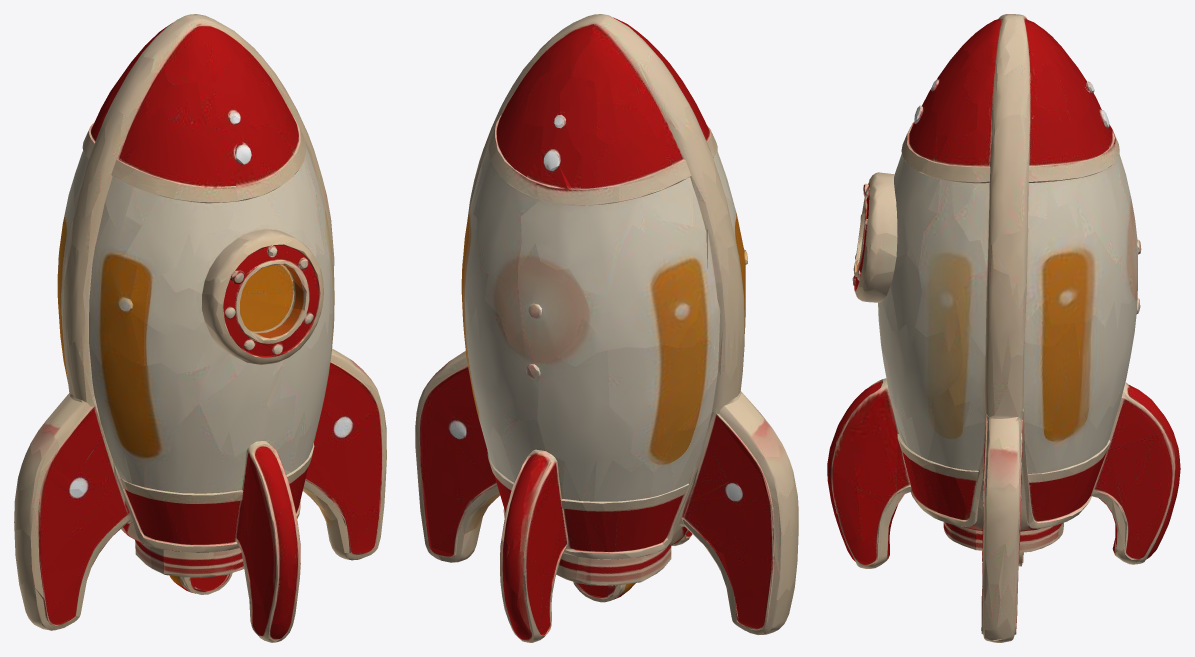
File: rocket.glb
The picture shows the model from 3 angles, left to right: view 1: azimuth 30°, elevation 25°; view 2: azimuth 150°, elevation 25°; view 3: azimuth 270°, elevation 25°; orthographic projection. The views are drawn at different scales.
Parts seen in each view (by area): view 1: charm-rocket; view 2: charm-rocket; view 3: charm-rocket.
Part boxes in pixels (left/top/right/bottom): charm-rocket: left=14, top=14, right=386, bottom=642; charm-rocket: left=415, top=14, right=798, bottom=642; charm-rocket: left=827, top=14, right=1180, bottom=642.
Bounding box in the file's own units: 0.6668 × 1 × 0.5812.
1 material, 1 textured.
